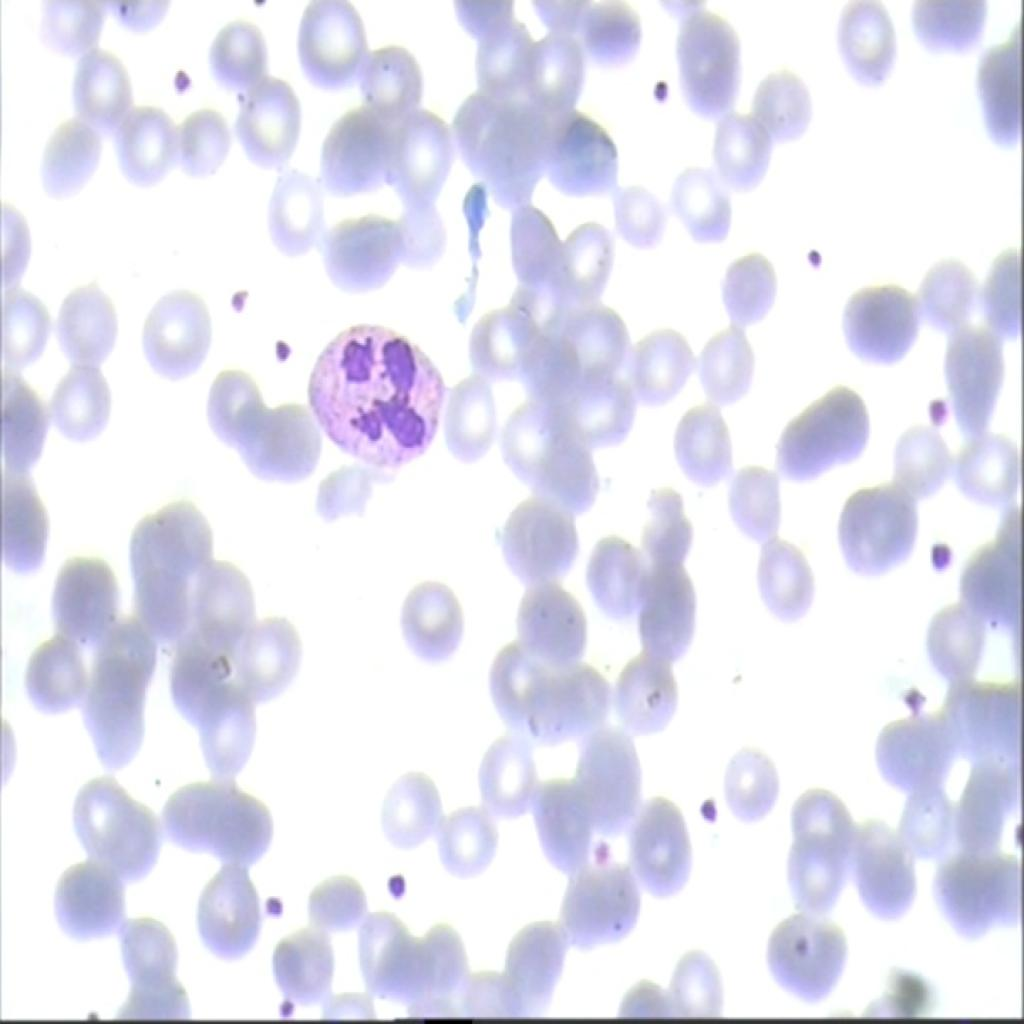Neutrofil: (307, 304, 451, 482)
Platelet: (919, 384, 963, 444), (896, 668, 933, 734), (157, 58, 199, 114), (374, 853, 412, 912), (647, 64, 679, 121), (258, 878, 290, 932), (792, 231, 826, 277), (692, 791, 726, 832), (924, 526, 954, 572), (225, 279, 257, 318), (273, 329, 300, 373), (589, 826, 610, 860), (277, 992, 299, 1020)
